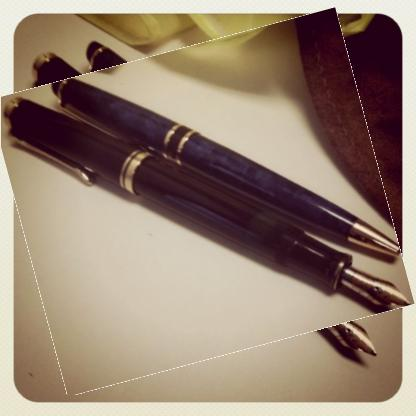Pen: (5, 28, 398, 375)
